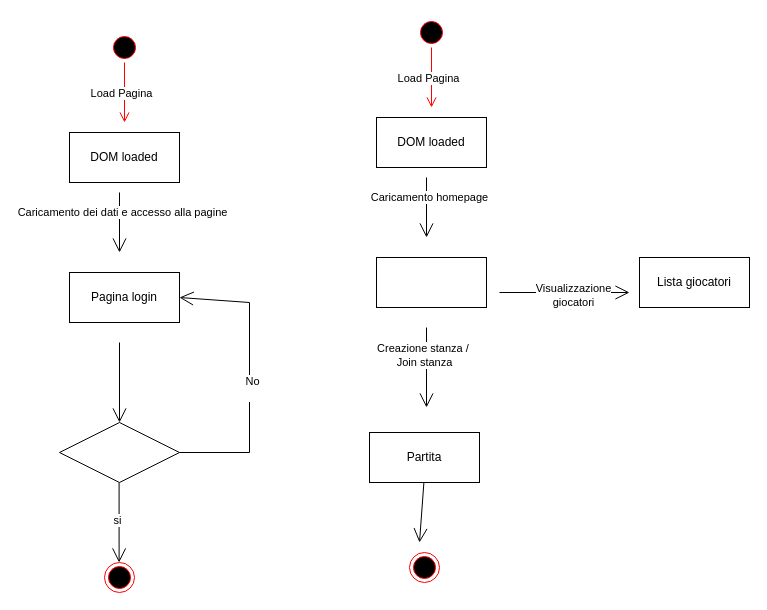
Some shapes in this 767 by 610 pixel diagram are drawn without their labels. The shapes that lost their labels are listed below. From the top down, each one's centre as x and y in pixels, then its label:
At [431,282]: "Homepage".
At [119,452]: "Creadenziali corrette".
